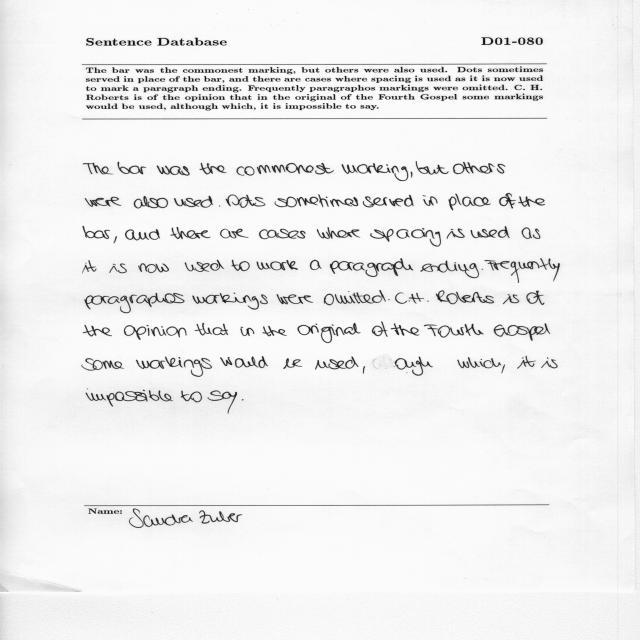word: (85, 293, 185, 313), (484, 258, 560, 283), (136, 356, 212, 377), (330, 258, 413, 277), (86, 390, 173, 407), (370, 228, 441, 247), (192, 293, 268, 310), (237, 163, 334, 176), (298, 323, 361, 343), (342, 163, 408, 181), (275, 195, 359, 208), (494, 323, 550, 341), (420, 261, 479, 278), (324, 291, 386, 306), (124, 325, 186, 340), (436, 291, 494, 305), (424, 324, 484, 337), (394, 357, 433, 376), (448, 194, 491, 211), (208, 390, 237, 414), (453, 162, 505, 174), (363, 195, 414, 207), (220, 356, 268, 368), (315, 357, 359, 370), (82, 358, 124, 371), (226, 195, 266, 208), (317, 227, 360, 239), (458, 357, 502, 368), (171, 227, 211, 239), (174, 196, 213, 208), (471, 226, 510, 238), (185, 260, 224, 272), (259, 229, 305, 239), (134, 196, 168, 209), (416, 162, 449, 175), (195, 323, 228, 336), (125, 229, 160, 241), (257, 260, 298, 270), (276, 294, 313, 304), (391, 323, 419, 336), (86, 197, 122, 207), (83, 226, 110, 239), (118, 162, 147, 174), (83, 325, 112, 337), (83, 163, 113, 174), (157, 166, 190, 176), (138, 263, 169, 273), (200, 163, 227, 174), (518, 196, 545, 207), (220, 229, 249, 239), (499, 194, 516, 209), (527, 291, 545, 305), (181, 391, 202, 403), (262, 326, 287, 336), (517, 356, 536, 369), (372, 322, 388, 337), (522, 227, 541, 239), (231, 260, 250, 271), (284, 358, 303, 369), (447, 228, 465, 239), (409, 293, 428, 303), (541, 358, 558, 369), (83, 260, 97, 273), (109, 264, 127, 274), (395, 293, 410, 304), (503, 294, 519, 304), (423, 195, 437, 206), (310, 260, 322, 270), (241, 327, 254, 336), (501, 365, 505, 374), (114, 237, 117, 244), (363, 366, 365, 374), (411, 172, 413, 178), (388, 299, 390, 300), (242, 399, 243, 401), (219, 206, 220, 207), (482, 269, 483, 270)
